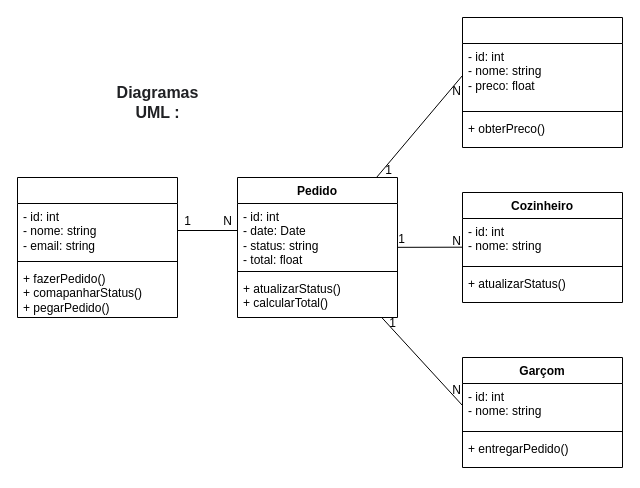
The diagram is 640 pixels wide and 488 high, and some of its shapes have lost their labels. Here are the shapes that lost their labels. From the top down, the box of each, then its label:
(462, 16, 622, 148): Item do Cardápio
(16, 176, 178, 318): Cliente
